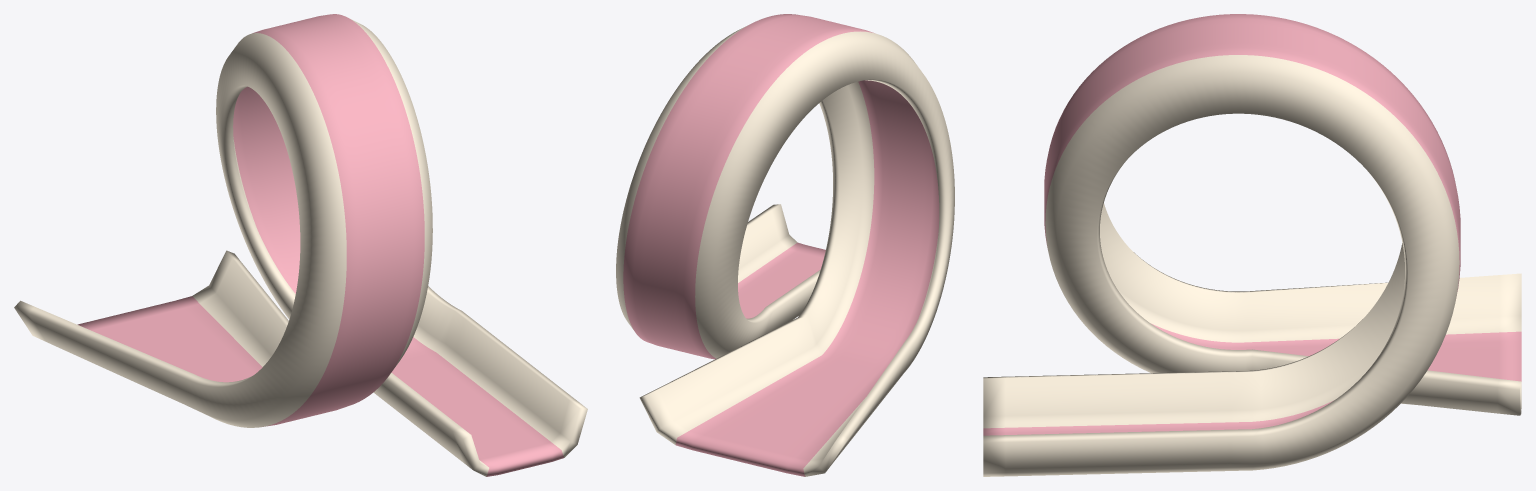
The model's file is loop.glb.
The picture shows the model from 3 angles, left to right: view 1: azimuth 30°, elevation 25°; view 2: azimuth 150°, elevation 25°; view 3: azimuth 270°, elevation 25°; orthographic projection. The views are drawn at different scales.
Visible parts, largest first — view 1: loop; view 2: loop; view 3: loop.
Part boxes in pixels (left/top/right/bottom): loop: left=14, top=14, right=587, bottom=476; loop: left=616, top=14, right=954, bottom=476; loop: left=983, top=14, right=1521, bottom=476.
Size of the model in its own units: 4.49 by 4.72 by 6.
